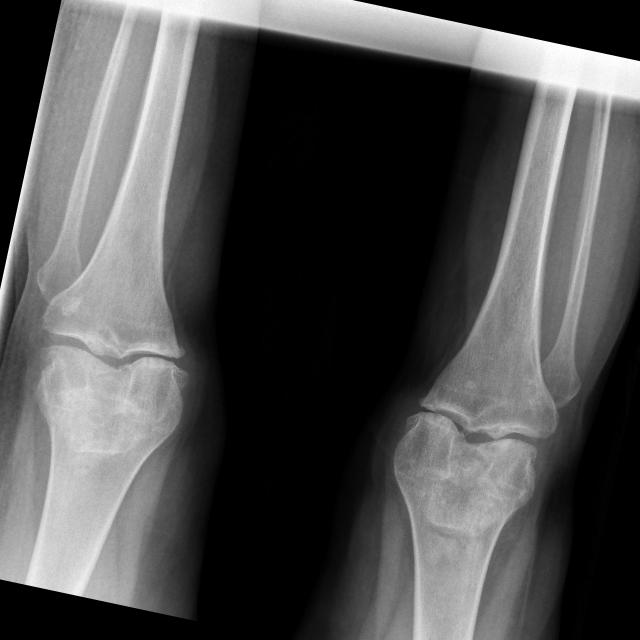Knee: (388, 356, 568, 508), (27, 280, 206, 426)
